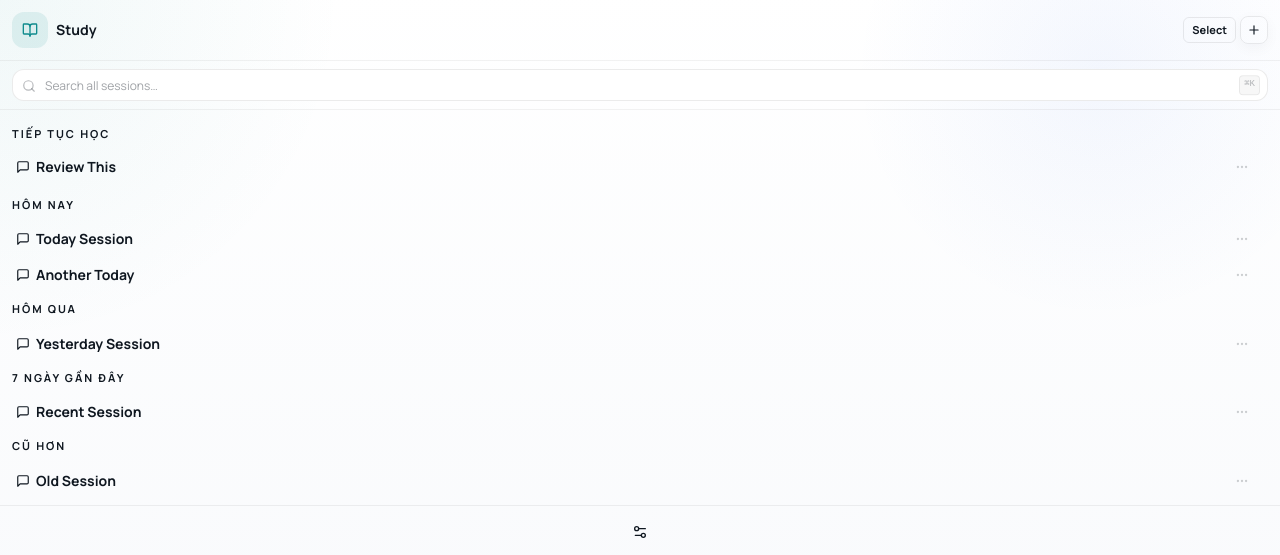
Test: SessionSidebar › disables search and hides continue-learning while selection mode is active
Expected: the text "Tiếp tục học" is shown, [12,126,110,141]
Click the button with test id "session-selection-mode-toggle" at (1210,30), box [1183,17,1236,43]
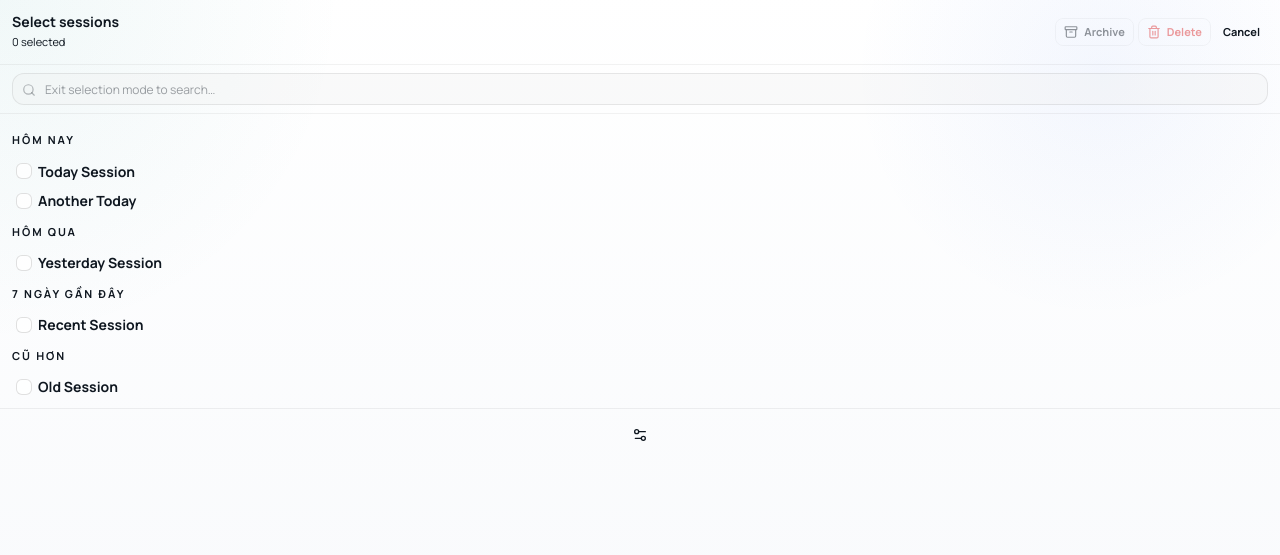
Expected: the text "Tiếp tục học" is gone
Expected: the field with placeholder "Exit selection mode to search…" is disabled, [12,73,1268,105]
